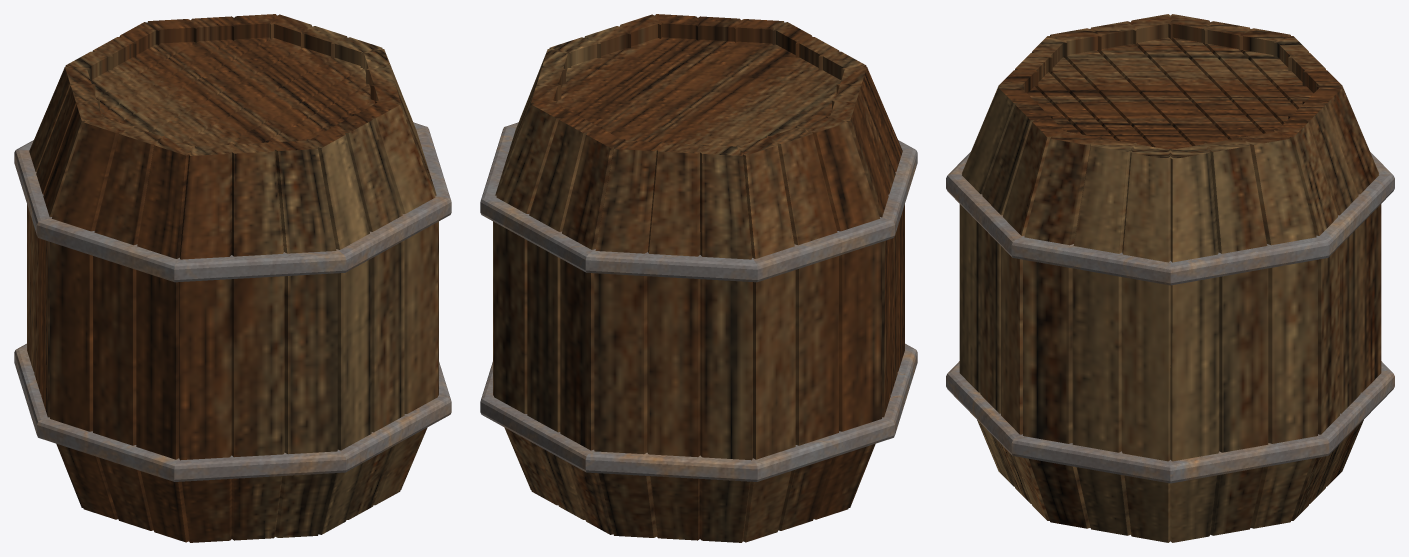
The model's file is barrel.fbx.
3 renders of one model, left to right at view 1: azimuth 30°, elevation 25°; view 2: azimuth 150°, elevation 25°; view 3: azimuth 270°, elevation 25°, orthographic.
Visible parts, largest first — view 1: barrel; view 2: barrel; view 3: barrel.
Part boxes in pixels (x1=…): barrel: x1=14, y1=14, x2=451, y2=542; barrel: x1=480, y1=14, x2=917, y2=542; barrel: x1=946, y1=14, x2=1394, y2=542.
Bounding box in the file's own units: 212 × 200 × 212.
2 materials, 2 textured.
